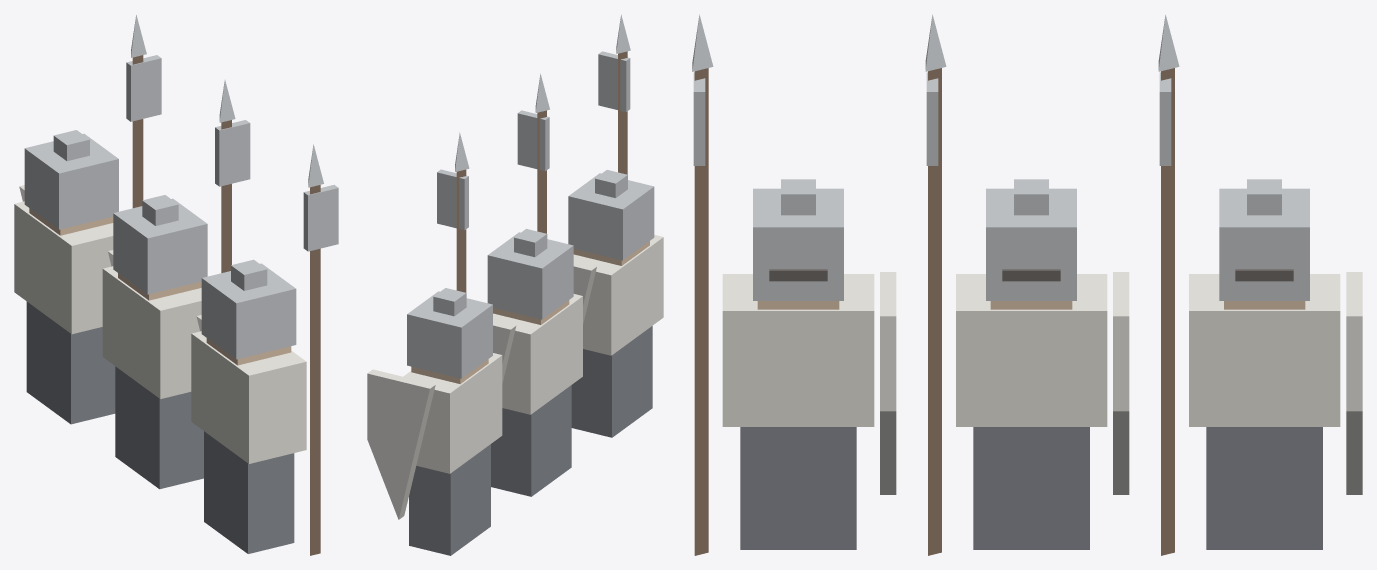
Rendered from formation_front.glb.
3 views of the same model, side by side, from view 1: azimuth 30°, elevation 25°; view 2: azimuth 150°, elevation 25°; view 3: azimuth 270°, elevation 25° (orthographic). The views are drawn at different scales.
Visible parts, largest first — view 1: medieval_formation_front; view 2: medieval_formation_front; view 3: medieval_formation_front.
Boxes of the visible parts, bbox=[...] form: medieval_formation_front: bbox=[14, 15, 338, 555]; medieval_formation_front: bbox=[367, 14, 663, 555]; medieval_formation_front: bbox=[692, 14, 1362, 555].
Size of the model in its own units: 0.1895 by 0.8865 by 0.9995.
